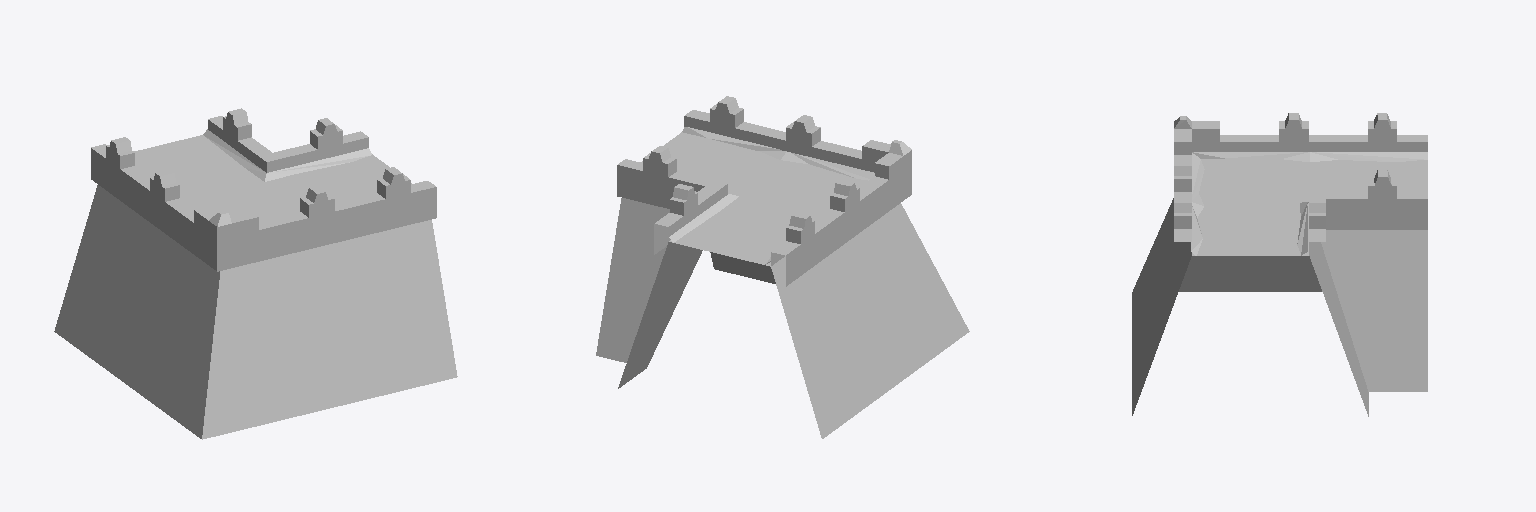
Rendered from templeTurnA_prefab.obj.
3 views of the same model, side by side, from view 1: azimuth 30°, elevation 25°; view 2: azimuth 150°, elevation 25°; view 3: azimuth 270°, elevation 25° (orthographic).
Parts seen in each view (by area): view 1: Object79-Pivot; view 2: Object79-Pivot; view 3: Object79-Pivot.
Part boxes in pixels (x1,y1,x2,y2): Object79-Pivot: (54, 108, 457, 439); Object79-Pivot: (596, 96, 969, 438); Object79-Pivot: (1132, 113, 1427, 416).
Size of the model in its own units: 50.01 by 36.8 by 50.02.